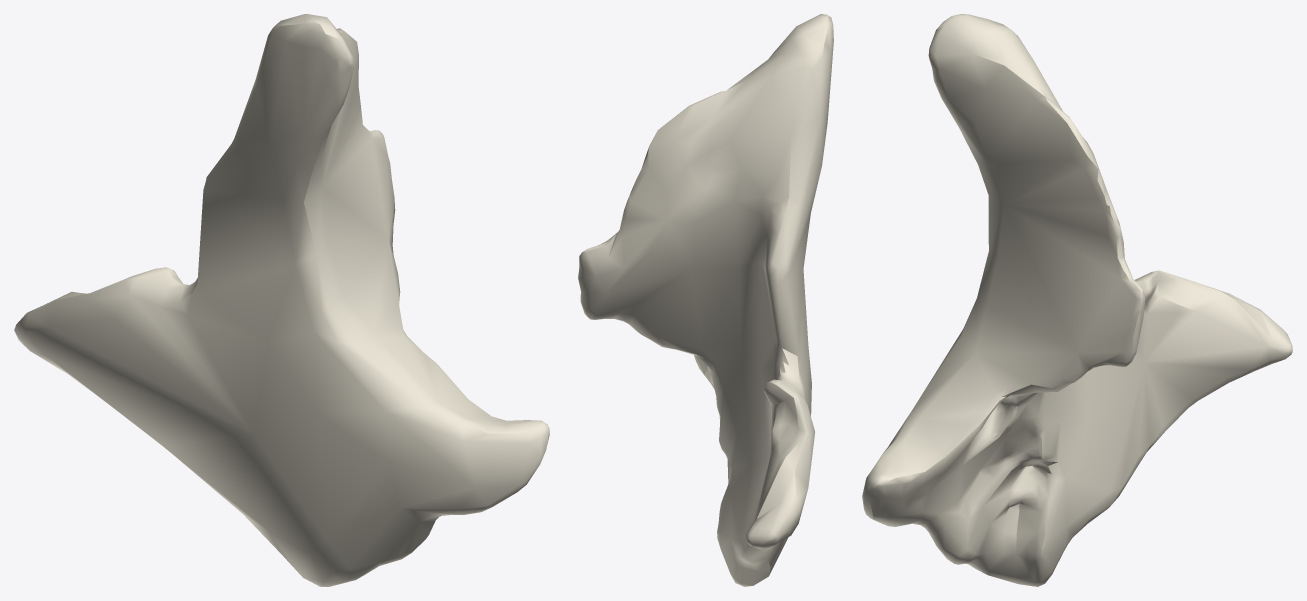
Rendered from fma52892_fj6483.glb.
3 views of the same model, side by side, from view 1: azimuth 30°, elevation 25°; view 2: azimuth 150°, elevation 25°; view 3: azimuth 270°, elevation 25° (orthographic). The views are drawn at different scales.
Visible parts, largest first — view 1: FMA52892_FJ6483; view 2: FMA52892_FJ6483; view 3: FMA52892_FJ6483.
Part boxes in pixels (bbox=[...]): FMA52892_FJ6483: bbox=[14, 14, 549, 586]; FMA52892_FJ6483: bbox=[578, 14, 833, 586]; FMA52892_FJ6483: bbox=[862, 14, 1292, 586].
Size of the model in its own units: 0.0313 by 0.0561 by 0.0397.
